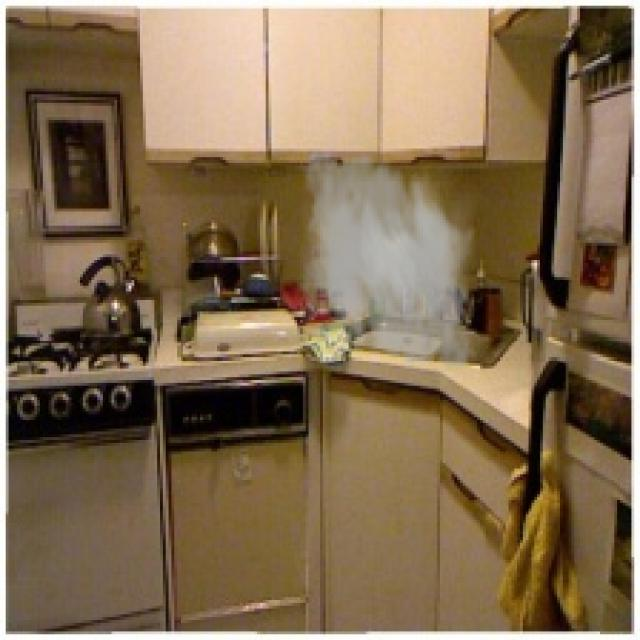smoke: (286, 140, 486, 380)
